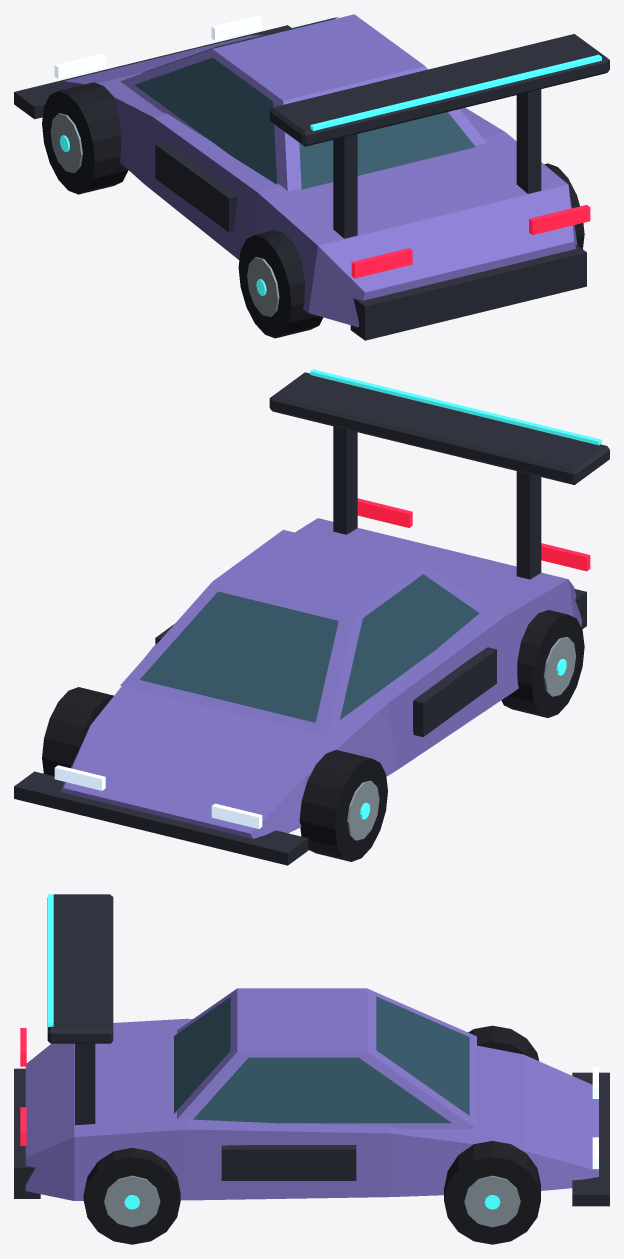
File: senna.glb
3 renders of one model, top to bottom at view 1: azimuth 30°, elevation 25°; view 2: azimuth 150°, elevation 25°; view 3: azimuth 270°, elevation 25°, orthographic. The views are drawn at different scales.
Visible parts, largest first — view 1: Sculpted carbon body, Cabin shell, High rear wing, Rear diffuser, Left window, Tire, Rear window, Tire.001, Side intake, Rear wing upright.001, Rear wing upright, Wing accent (+8 smaller); view 2: Sculpted carbon body, Cabin shell, Windshield, High rear wing, Left window, Tire, Front splitter, Tire.001, Side intake, Tire.002, Rear wing upright, Rear wing upright.001 (+7 smaller); view 3: Sculpted carbon body, Cabin shell, Right window, High rear wing, Windshield, Tire.002, Tire.003, Side intake.001, Rear window, Front splitter, Wheel rim.002, Wheel rim.003 (+4 smaller).
Boxes of the visible parts, x1,y1,x2,y2 form: Sculpted carbon body: (60,34,577,326); Cabin shell: (120,14,486,191); High rear wing: (269,34,609,146); Rear diffuser: (350,244,586,340); Left window: (135,57,276,184); Tire: (42,82,128,194); Rear window: (299,112,475,189); Tire.001: (238,230,323,338); Side intake: (155,142,237,232); Rear wing upright.001: (516,89,541,193); Rear wing upright: (333,134,357,238); Wing accent: (310,54,601,130); Sculpted carbon body: (60,518,582,838); Cabin shell: (120,529,486,735); Windshield: (139,591,338,722); High rear wing: (269,372,609,484); Left window: (340,574,479,719); Tire: (299,750,387,861); Front splitter: (14,771,308,865); Tire.001: (501,610,584,717); Side intake: (413,647,496,737); Tire.002: (42,687,113,776); Rear wing upright: (516,471,541,579); Rear wing upright.001: (333,426,357,534); Sculpted carbon body: (25,1018,598,1200); Cabin shell: (177,988,476,1128); Right window: (193,1057,451,1123); High rear wing: (47,894,113,1043); Windshield: (376,996,469,1115); Tire.002: (444,1141,540,1244); Tire.003: (83,1147,180,1244); Side intake.001: (221,1145,356,1180); Rear window: (174,997,230,1113); Front splitter: (572,1072,609,1206); Wheel rim.002: (464,1175,520,1227); Wheel rim.003: (104,1175,160,1227).
Bounding box in the file's own units: 2.08 × 1.55 × 3.81.
